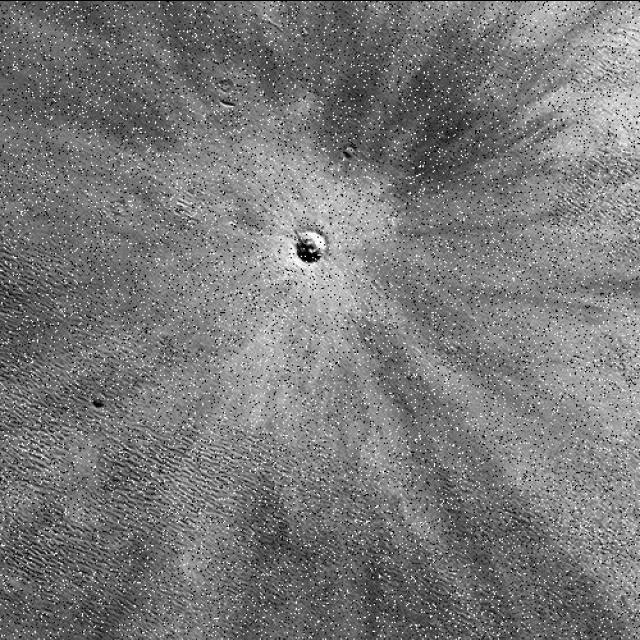crater: (279, 219, 343, 269), (98, 182, 143, 233), (78, 377, 114, 411), (292, 22, 315, 52), (338, 140, 362, 164)
